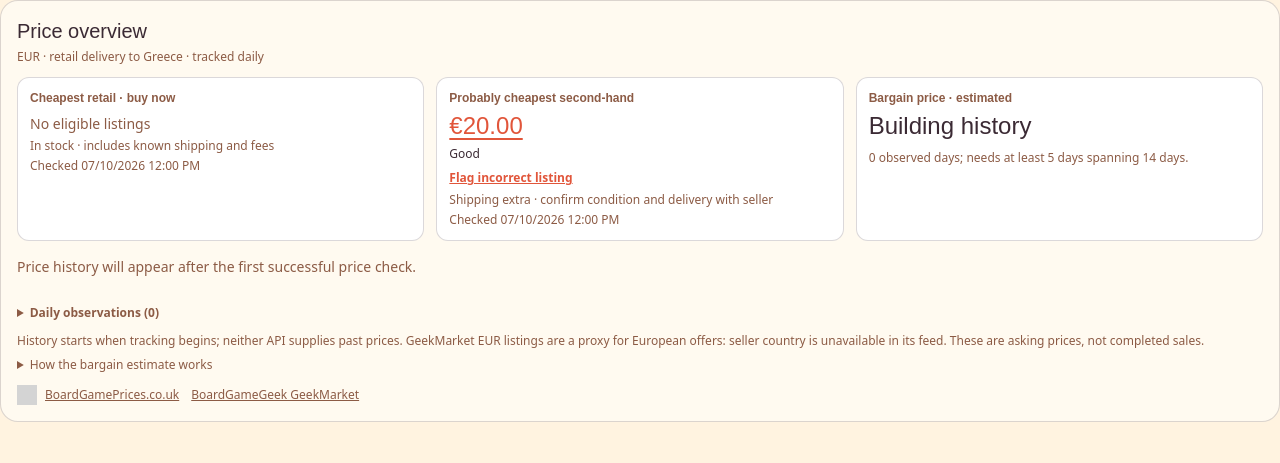
Test: Game price overview › flags the specific marketplace listing and displays the recalculated price
What coordinates should you click on to do the following:
click the button "Flag incorrect listing"
I would click on:
 (511, 178)
Its box is [449,170,572,186].
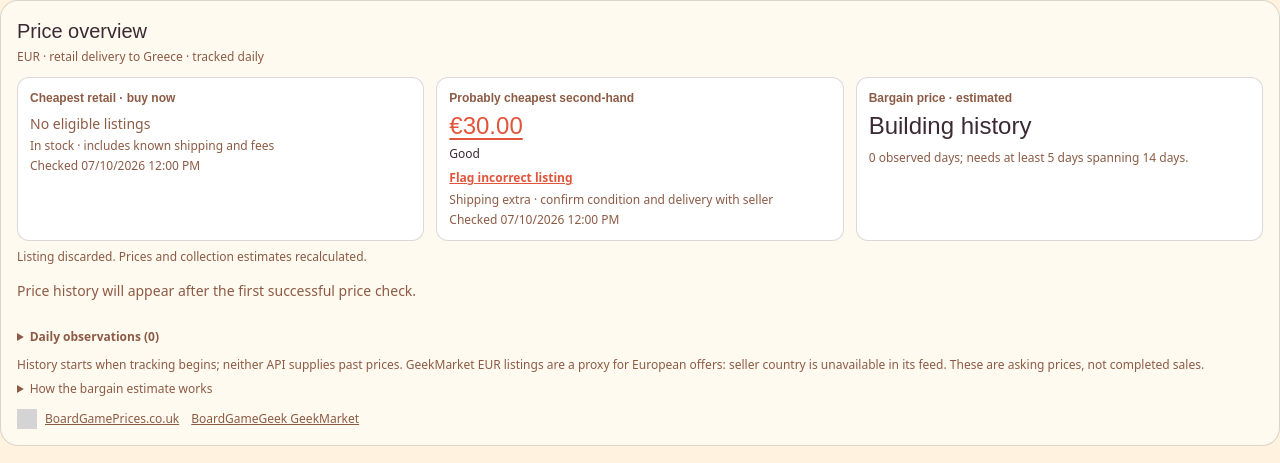
Check: the link "€20.00" is gone
